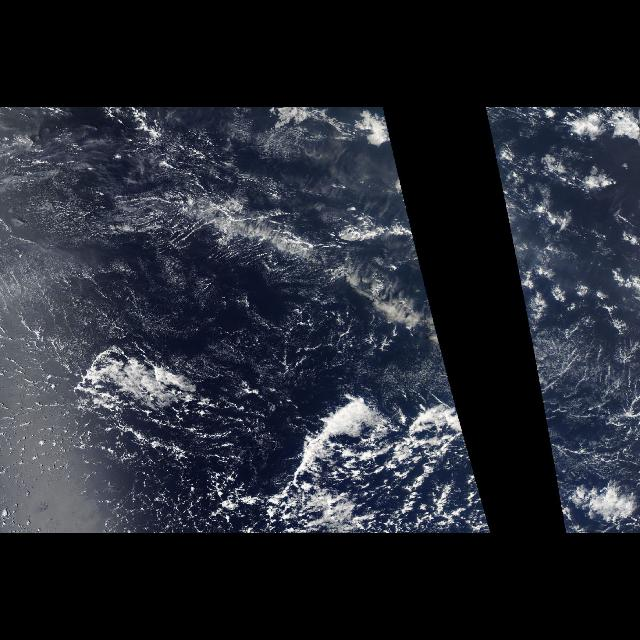Fish: (46, 345, 278, 461)
Gravel: (1, 390, 308, 532)
Sugar: (1, 107, 460, 410), (532, 312, 640, 482)
